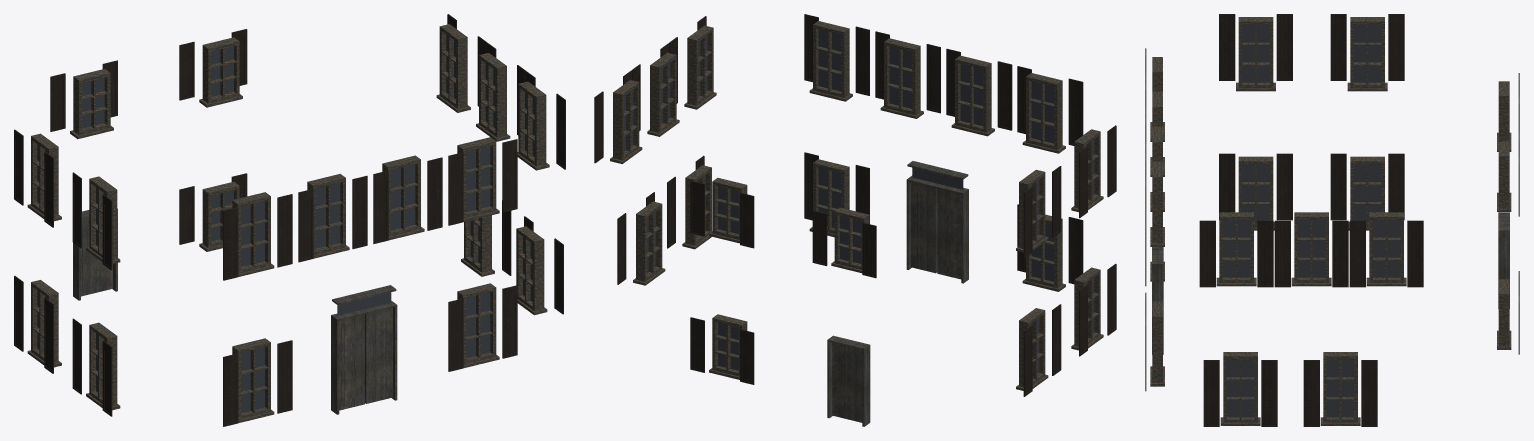
The model's file is Module_Openings.fbx.
The picture shows the model from 3 angles, left to right: view 1: azimuth 30°, elevation 25°; view 2: azimuth 150°, elevation 25°; view 3: azimuth 270°, elevation 25°; orthographic projection. The views are drawn at different scales.
Parts seen in each view (by area): view 1: DOOR_main_leaf_1, WIN_f_gR_glass, WIN_f_u1_glass, WIN_f_u2_glass, WIN_f_u3_glass, KIT_Shutter01_polySurface54.002, KIT_Shutter02_polySurface57.001, KIT_Shutter02_polySurface57.002, KIT_Shutter01_polySurface54.003, KIT_Shutter02_polySurface57.003, KIT_Shutter01_polySurface54.006, KIT_Shutter02_polySurface57.004 (+41 smaller); view 2: DOOR_main_leaf_1, DOOR_back_leaf_0, DOOR_main_leaf_0, KIT_Shutter01_polySurface54.004, WIN_f_u0_glass, WIN_f_u1_glass, WIN_f_u2_glass, WIN_f_u3_glass, KIT_Shutter01_polySurface54.006, KIT_Shutter01_polySurface54.005, KIT_Shutter01_polySurface54.001, KIT_Shutter01_polySurface54.003 (+41 smaller); view 3: WIN_e_g0_glass, WIN_w_u1_glass, WIN_e_g1_glass, WIN_e_u0_glass, WIN_e_u1_glass, WIN_e_u2_glass, WIN_w_u0_glass, WIN_w_g1_glass, WIN_w_g0_glass, KIT_Shutter02_polySurface57.012, KIT_Shutter02_polySurface57.013, KIT_Shutter02_polySurface57.014 (+22 smaller).
Boxes of the visible parts, left/top/right/bottom form: DOOR_main_leaf_1: left=365, top=307, right=392, bottom=403; WIN_f_gR_glass: left=466, top=292, right=490, bottom=357; WIN_f_u1_glass: left=316, top=182, right=340, bottom=248; WIN_f_u2_glass: left=391, top=164, right=415, bottom=230; WIN_f_u3_glass: left=466, top=146, right=490, bottom=211; KIT_Shutter01_polySurface54.002: left=448, top=298, right=463, bottom=371; KIT_Shutter02_polySurface57.001: left=277, top=340, right=292, bottom=413; KIT_Shutter02_polySurface57.002: left=502, top=285, right=517, bottom=358; KIT_Shutter01_polySurface54.003: left=223, top=207, right=238, bottom=280; KIT_Shutter02_polySurface57.003: left=277, top=194, right=292, bottom=267; KIT_Shutter01_polySurface54.006: left=448, top=152, right=463, bottom=225; KIT_Shutter02_polySurface57.004: left=352, top=175, right=367, bottom=248; DOOR_main_leaf_1: left=910, top=182, right=937, bottom=273; DOOR_back_leaf_0: left=832, top=342, right=862, bottom=422; DOOR_main_leaf_0: left=937, top=188, right=961, bottom=279; KIT_Shutter01_polySurface54.004: left=997, top=61, right=1012, bottom=130; WIN_f_u0_glass: left=1031, top=81, right=1054, bottom=143; WIN_f_u1_glass: left=960, top=64, right=983, bottom=126; WIN_f_u2_glass: left=889, top=46, right=912, bottom=108; WIN_f_u3_glass: left=818, top=29, right=841, bottom=91; KIT_Shutter01_polySurface54.006: left=855, top=26, right=869, bottom=95; KIT_Shutter01_polySurface54.005: left=926, top=44, right=940, bottom=113; KIT_Shutter01_polySurface54.001: left=1068, top=217, right=1083, bottom=284; KIT_Shutter01_polySurface54.003: left=1068, top=78, right=1083, bottom=145; WIN_e_g0_glass: left=1226, top=359, right=1254, bottom=417; WIN_w_u1_glass: left=1353, top=25, right=1381, bottom=82; WIN_e_g1_glass: left=1326, top=359, right=1354, bottom=417; WIN_e_u0_glass: left=1222, top=220, right=1250, bottom=277; WIN_e_u1_glass: left=1298, top=220, right=1325, bottom=277; WIN_e_u2_glass: left=1373, top=220, right=1400, bottom=277; WIN_w_u0_glass: left=1242, top=25, right=1269, bottom=82; WIN_w_g1_glass: left=1353, top=164, right=1381, bottom=222; WIN_w_g0_glass: left=1242, top=164, right=1269, bottom=222; KIT_Shutter02_polySurface57.012: left=1257, top=220, right=1273, bottom=287; KIT_Shutter02_polySurface57.013: left=1332, top=220, right=1348, bottom=287; KIT_Shutter02_polySurface57.014: left=1407, top=220, right=1423, bottom=287.
Bounding box in the file's own units: 1273 × 642 × 973.
4 materials, 3 textured.
